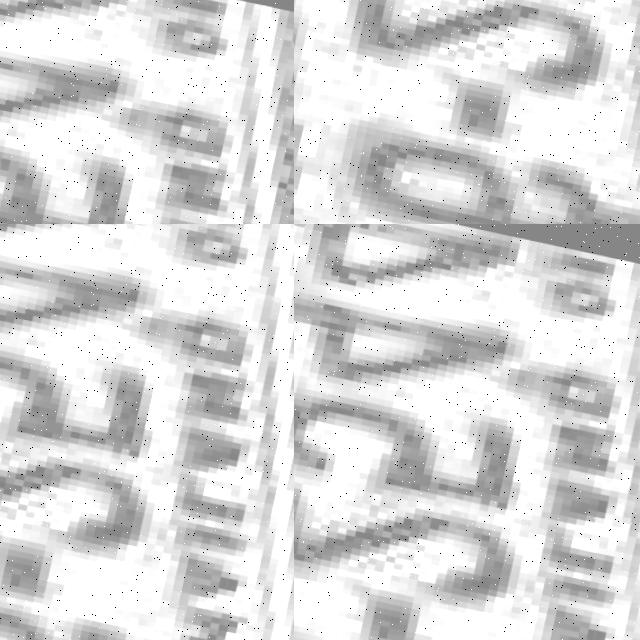license-plate: (294, 224, 640, 640), (0, 224, 214, 640), (0, 0, 273, 224)
